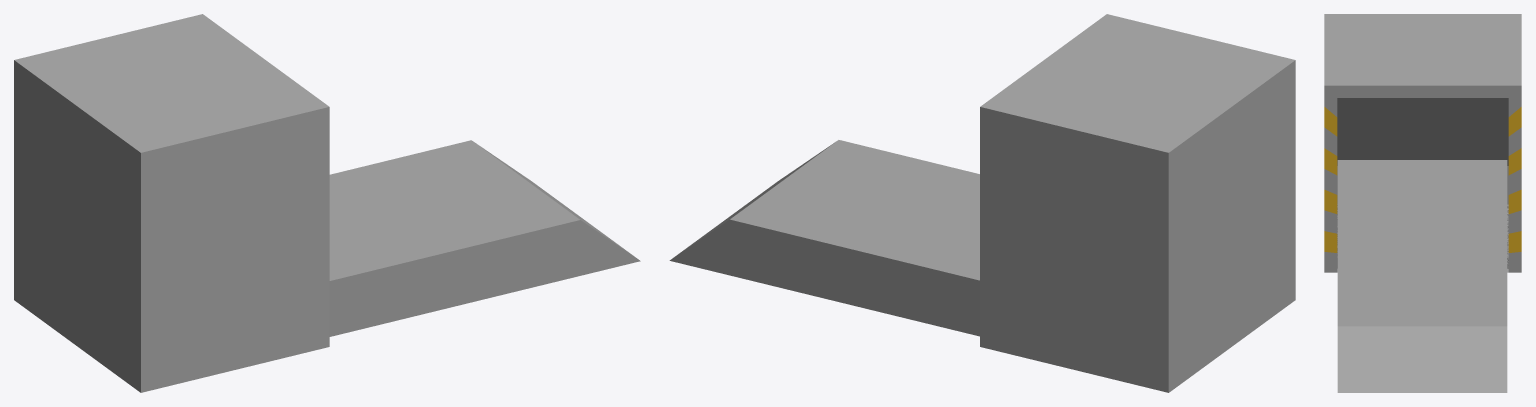
The model's file is minifabrika.fbx.
3 renders of one model, left to right at view 1: azimuth 30°, elevation 25°; view 2: azimuth 150°, elevation 25°; view 3: azimuth 270°, elevation 25°, orthographic. The views are drawn at different scales.
Parts seen in each view (by area): view 1: gate; view 2: gate; view 3: gate.
Part boxes in pixels (x1,y1,x2,y2): gate: [14, 14, 640, 392]; gate: [669, 14, 1295, 392]; gate: [1324, 14, 1521, 392].
Size of the model in its own units: 948 by 427 by 409.
